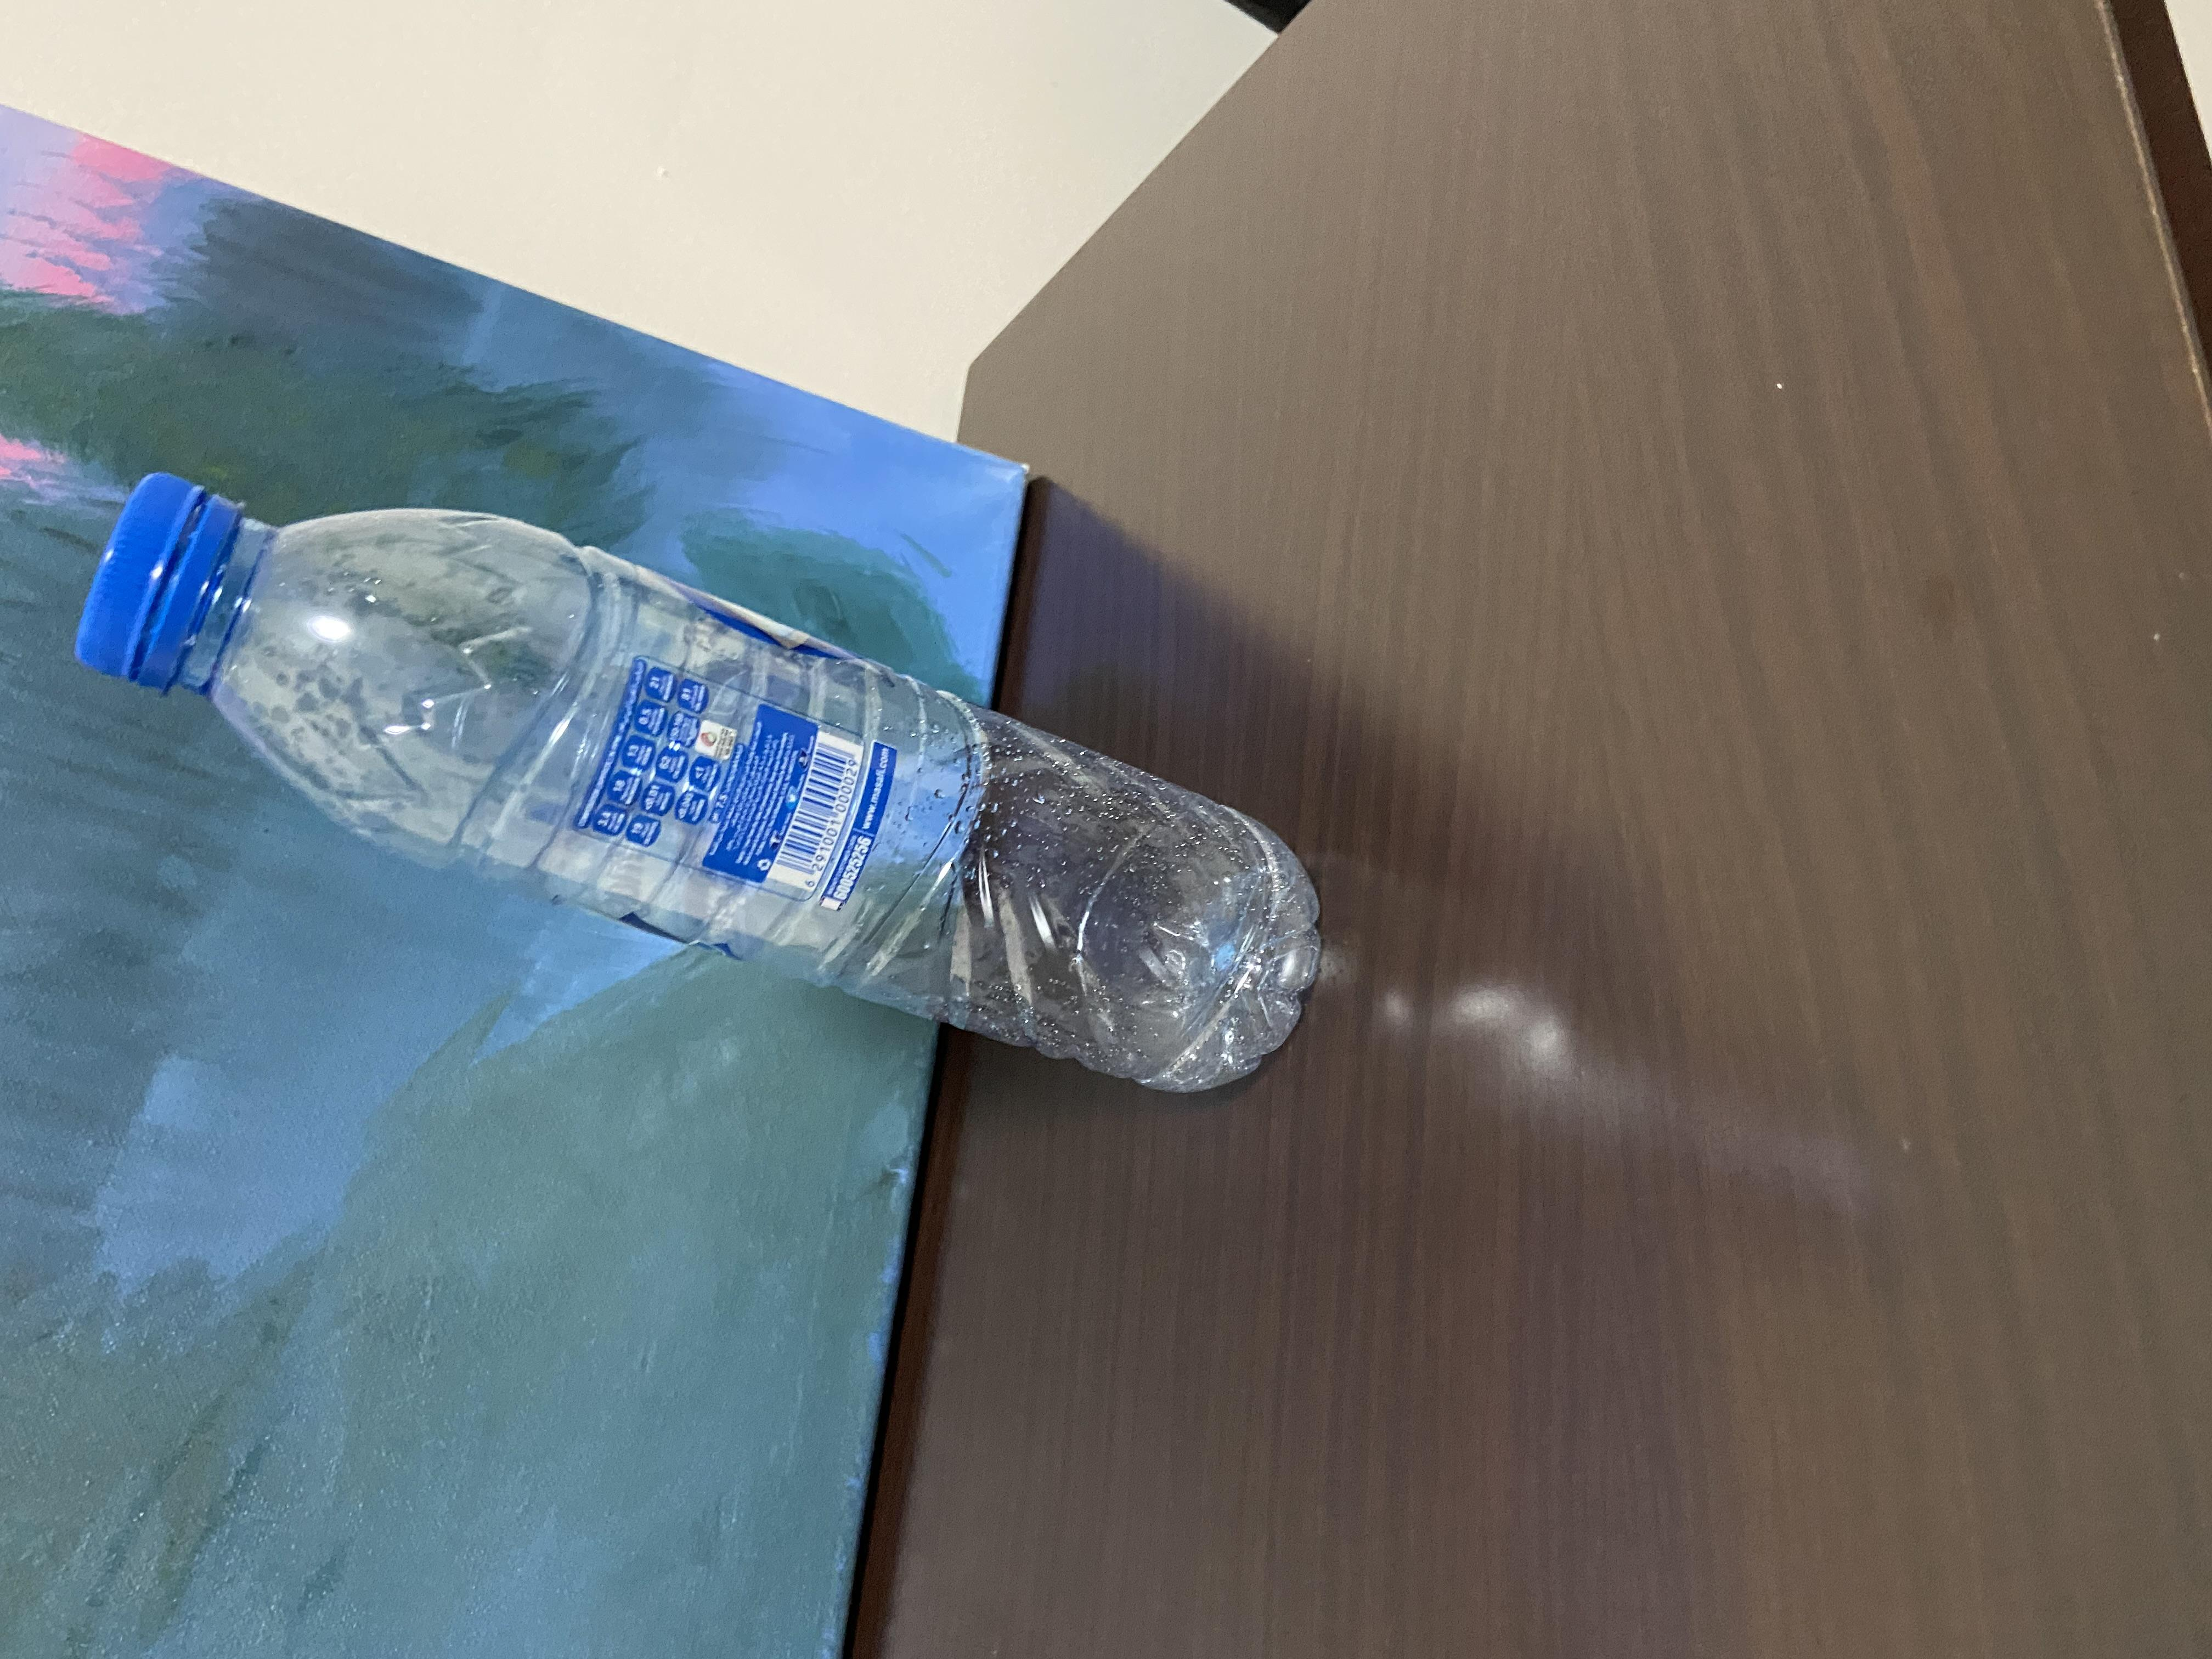bottle: (747, 21, 1611, 1012)
